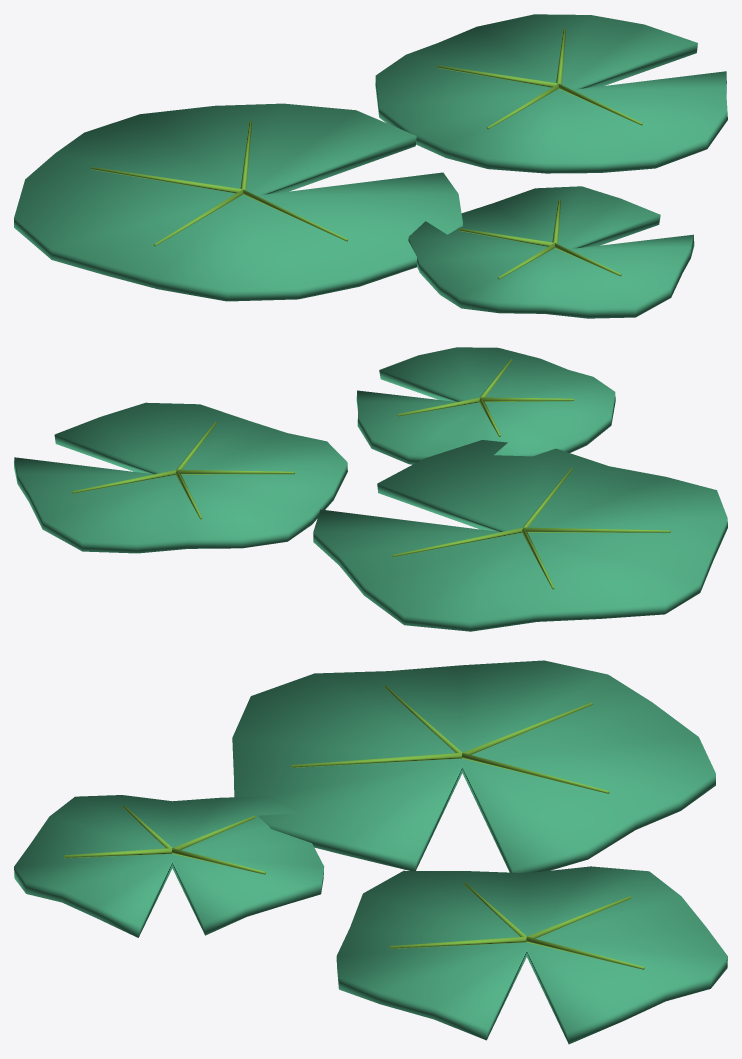
Rendered from WR_Env_LilyPads_01.glb.
The picture shows the model from 3 angles, top to bottom: view 1: azimuth 30°, elevation 25°; view 2: azimuth 150°, elevation 25°; view 3: azimuth 270°, elevation 25°; orthographic projection. The views are drawn at different scales.
Parts seen in each view (by area): view 1: WR_Env_LilyPads_01_Visual; view 2: WR_Env_LilyPads_01_Visual; view 3: WR_Env_LilyPads_01_Visual.
Boxes of the visible parts, x1,y1,x2,y2 form: WR_Env_LilyPads_01_Visual: [14, 14, 727, 318]; WR_Env_LilyPads_01_Visual: [14, 347, 727, 631]; WR_Env_LilyPads_01_Visual: [14, 660, 727, 1044].
Size of the model in its own units: 0.5435 by 0.019 by 0.4432.
